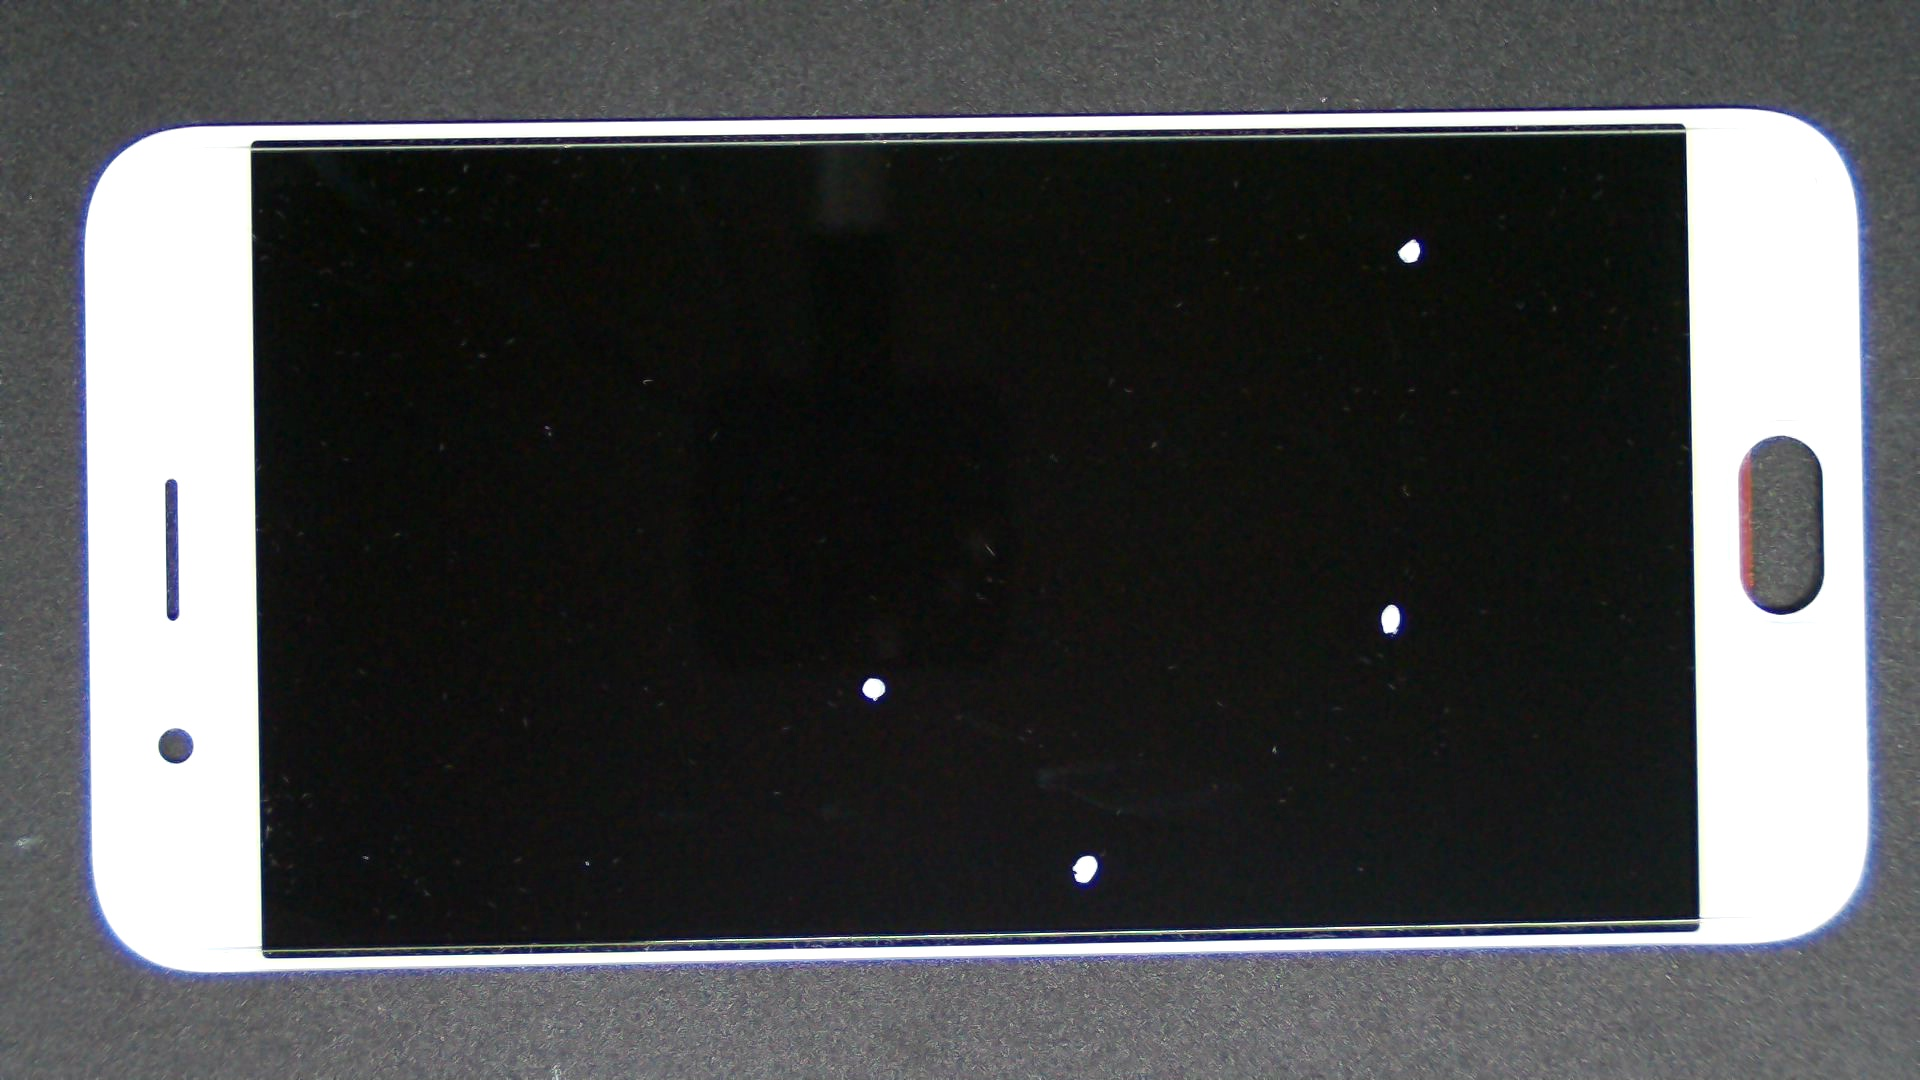oil: (696, 301, 1920, 905), (547, 426, 1639, 1080), (436, 338, 1308, 1014), (707, 117, 1920, 355)
